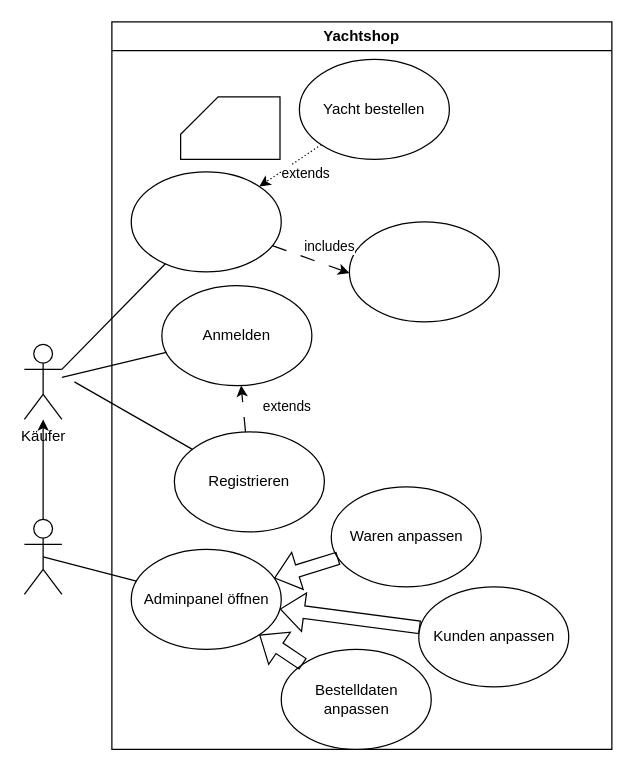
Image size: 634x771. Some labels were removed from this diagram. The box of each missing label's shape, as (x1, y1, x2, y2) in pixels:
Admin: (23, 518, 62, 594)
Bezahlen: (348, 221, 499, 322)
falls vorhanden: (179, 96, 280, 159)
Yachtkatalog anschauen: (130, 171, 281, 272)
